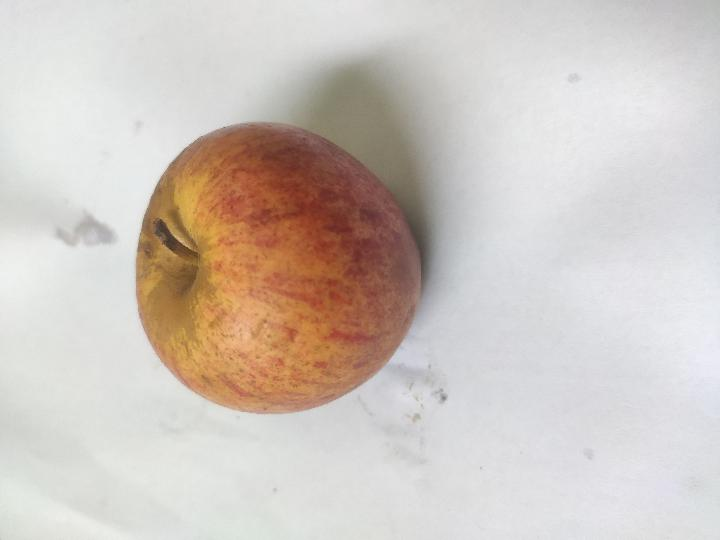apple: (136, 123, 420, 413)
bruise_discoloration: (139, 175, 240, 361)
